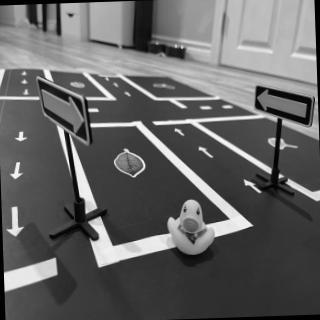duck_regular: (169, 195, 221, 258)
road_oneway: (7, 204, 26, 241), (244, 176, 264, 198), (10, 157, 25, 183), (197, 143, 215, 163), (15, 127, 29, 146), (173, 127, 186, 139), (20, 88, 32, 100), (21, 80, 31, 88), (23, 69, 30, 80)
sign_oneway_left: (254, 82, 314, 131)
sign_oneway_right: (38, 77, 91, 148)
